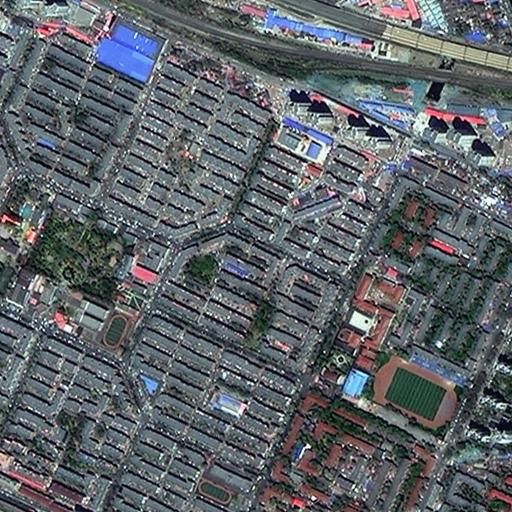school: (307, 268, 469, 435), (49, 294, 138, 354), (189, 460, 256, 512)
